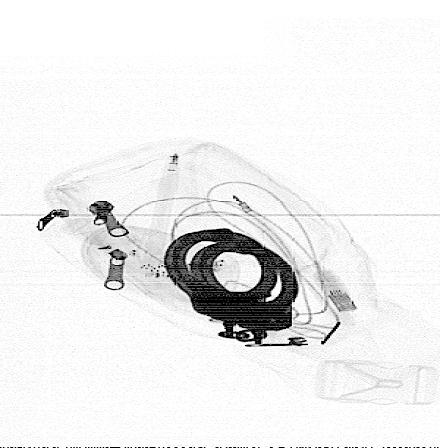HandCuffs: (159, 225, 302, 348)
